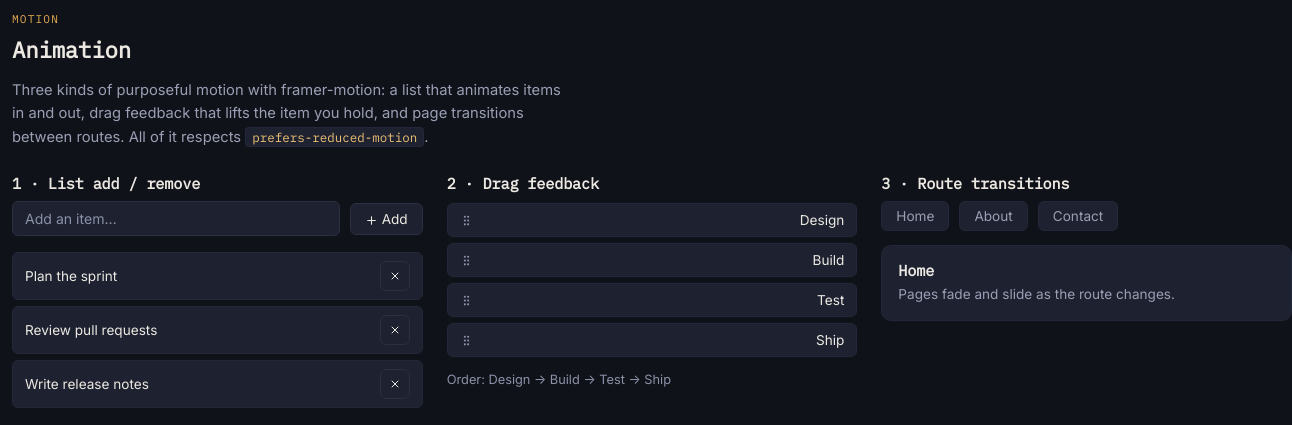
Test: Task 34 – animation › swaps pages when the route changes (exit, then enter)
This screenshot has width=1292, height=425.
Expected: the heading "Home" is shown, x1=898 y1=260 x2=934 y2=280
Step 1. Click the link "About" → (994, 216), box x1=959 y1=202 x2=1028 y2=232
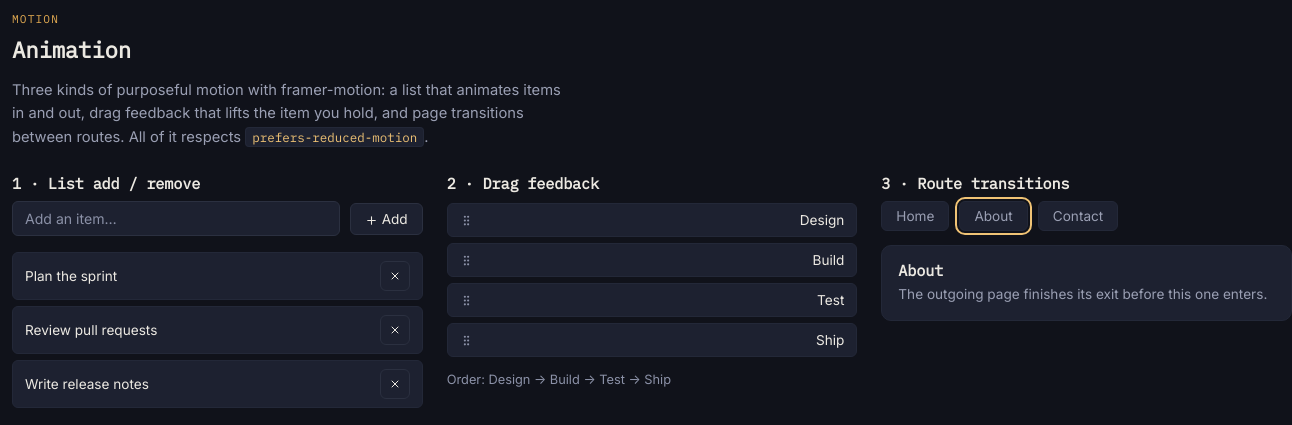
Now the heading "About" is shown, box x1=898 y1=260 x2=943 y2=280
